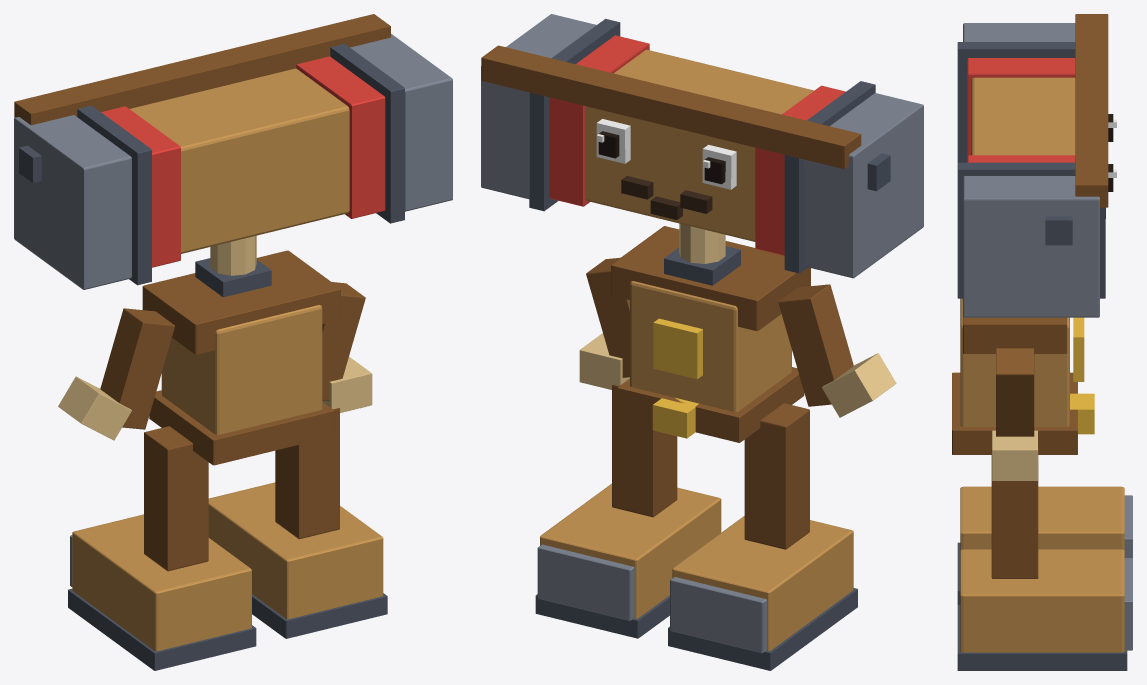
Rendered from mallet-sentry.glb.
3 renders of one model, left to right at view 1: azimuth 30°, elevation 25°; view 2: azimuth 150°, elevation 25°; view 3: azimuth 270°, elevation 25°, orthographic. The views are drawn at different scales.
Visible parts, largest first — view 1: head, body, leg.FR, leg.FL, arm.R, arm.L; view 2: head, body, leg.FR, leg.FL, arm.R, arm.L; view 3: head, leg.FL, body, leg.FR, arm.L.
Part boxes in pixels (x1,y1,x2,y2): head: [14, 14, 452, 289]; body: [142, 235, 340, 465]; leg.FR: [68, 426, 256, 670]; leg.FL: [208, 408, 387, 638]; arm.R: [58, 308, 174, 440]; arm.L: [322, 282, 372, 412]; head: [481, 14, 923, 278]; body: [611, 223, 810, 442]; leg.FR: [668, 403, 857, 670]; leg.FL: [535, 384, 721, 638]; arm.R: [778, 284, 896, 417]; arm.L: [579, 257, 629, 389]; head: [957, 14, 1116, 317]; leg.FL: [957, 448, 1132, 670]; body: [952, 298, 1094, 454]; leg.FR: [957, 486, 1132, 604]; arm.L: [992, 348, 1037, 480].
Bounding box in the file's own units: 0.7669 × 1 × 0.3179.
